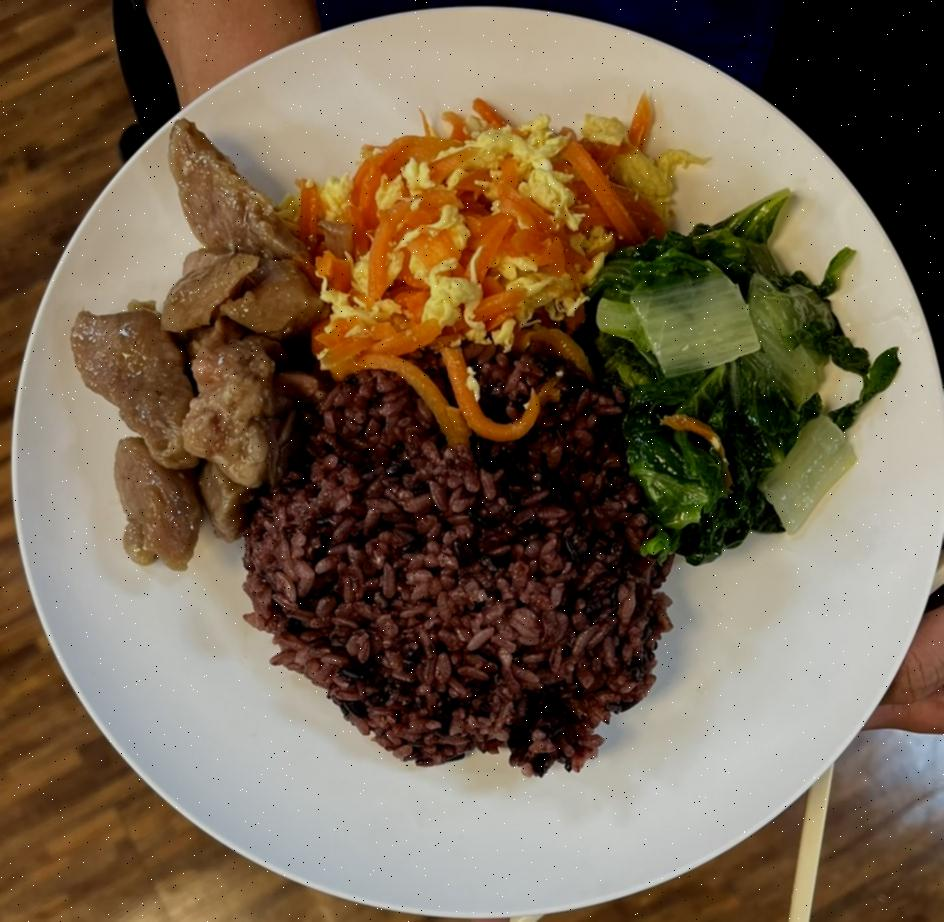big fried chicken leg: (0, 8, 940, 922)
braised fish: (252, 348, 670, 768)
braised fish fillet: (298, 102, 696, 372), (606, 200, 900, 558)
braised pork: (65, 111, 322, 568)
